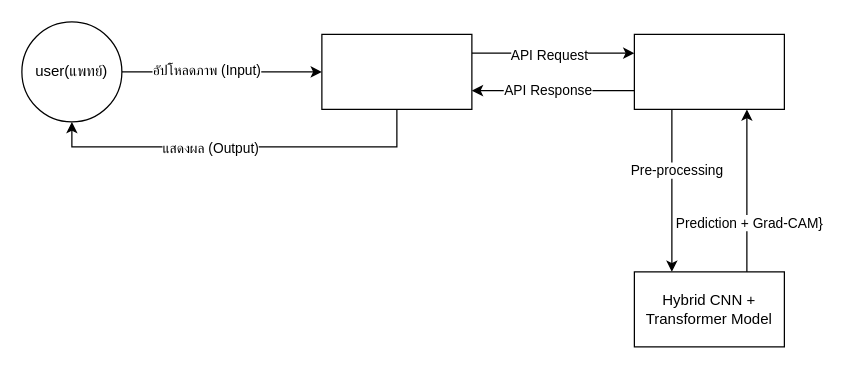
Some shapes in this 844 by 369 pixel diagram are drawn without their labels. The shapes that lost their labels are listed below. From the top down, each one's centre as x and y in pixels, then its label:
At (x=396, y=71): "Web Dashboard (React/Next.js)".
At (x=708, y=71): "Flask API Service".
